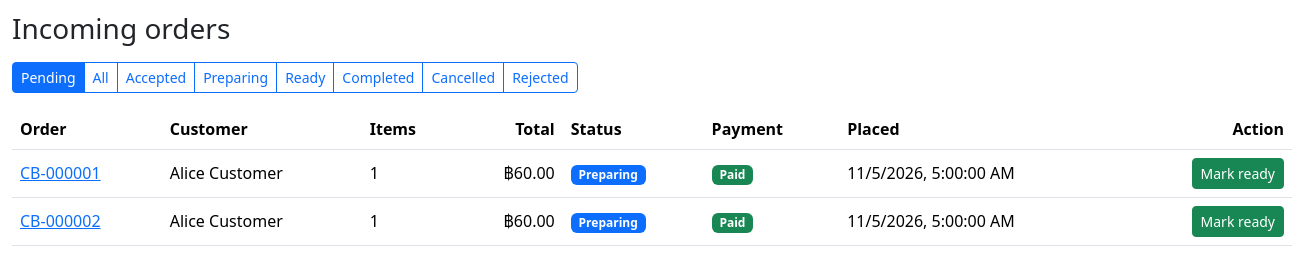
Test case: OperatorOrders fulfilment actions (AC-86) › TEST-86: Mark ready shows Updating… while pending, then the row shows the new status
The image size is (1292, 263).
Later steps or results of the test are not shown.
Expected: the link "CB-000001" is shown, [20,162,101,184]
Click the button "All" at [101, 77], box [84,62,118,93]
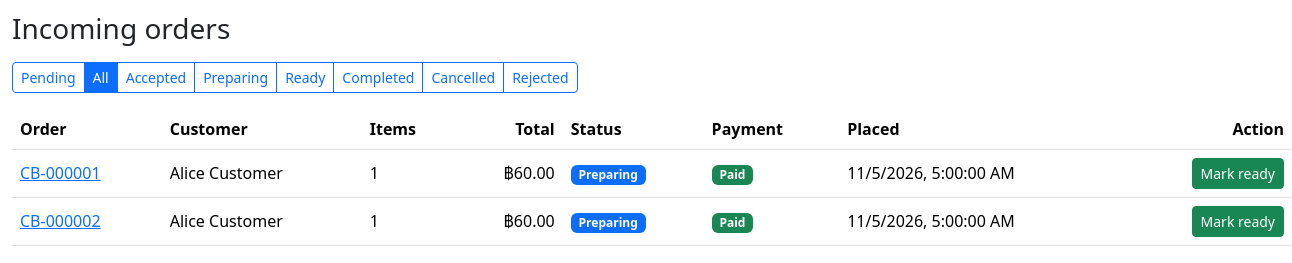
Click the button "Mark ready" in the row of "CB-000001" at [1238, 173], box [1192,158,1284,189]
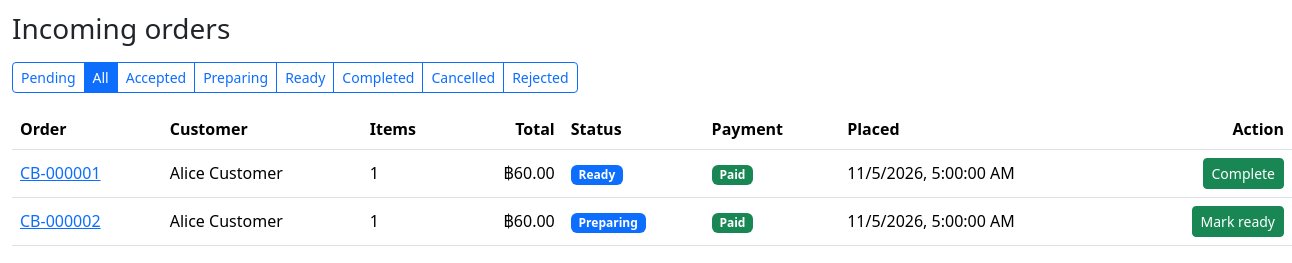
Expected: the button "Mark ready" is enabled, [1192,206,1284,237]
Expected: the text "Ready" is shown, [571,165,623,185]
Expected: the buttons read "Complete", in this order, [1202,158,1284,189]
